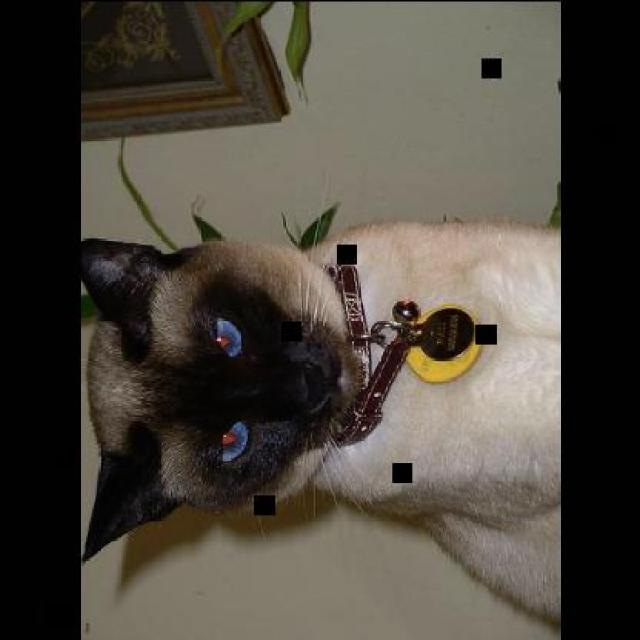unauthorized: (78, 217, 560, 634)
